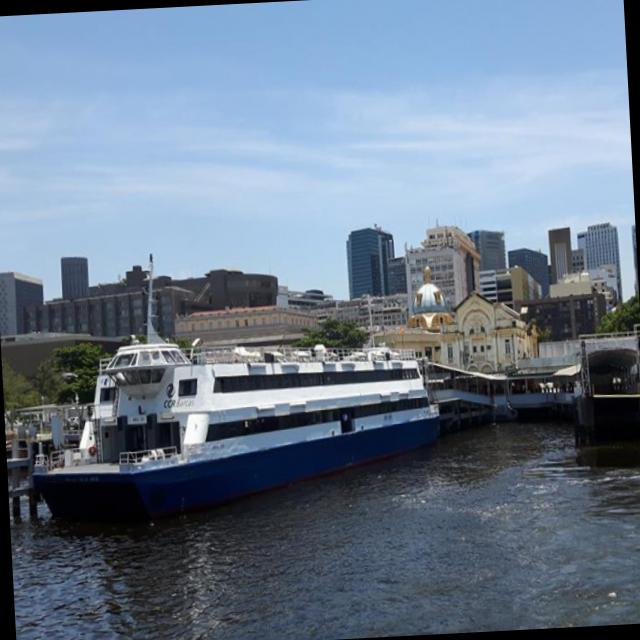Passenger: (30, 255, 438, 519)
